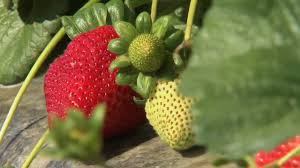ripe: (43, 26, 140, 156)
unripe: (137, 77, 219, 151), (121, 26, 171, 75)
